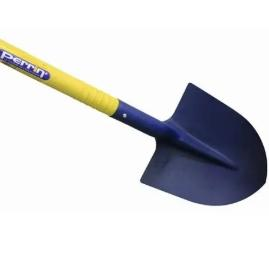PELLE: (0, 32, 269, 238)
